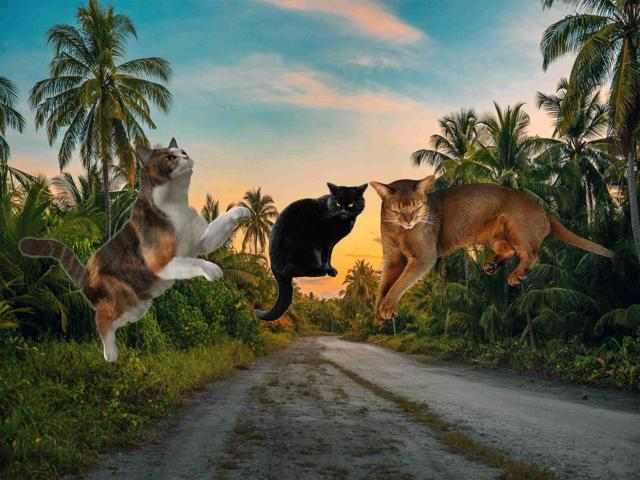cat: (20, 131, 250, 365), (371, 177, 632, 323), (256, 179, 367, 319)
